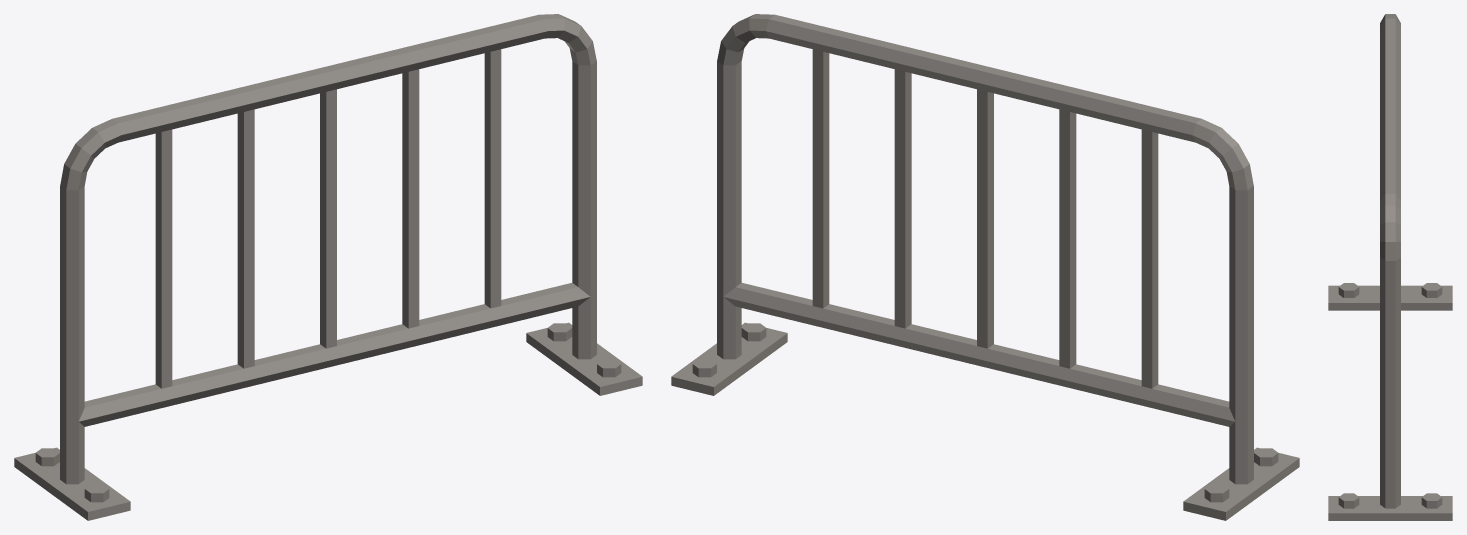
File: SafetyBarrier.fbx
3 renders of one model, left to right at view 1: azimuth 30°, elevation 25°; view 2: azimuth 150°, elevation 25°; view 3: azimuth 270°, elevation 25°, orthographic. The views are drawn at different scales.
Parts seen in each view (by area): view 1: SafetyBarrier; view 2: SafetyBarrier; view 3: SafetyBarrier.
Boxes of the visible parts, x1,y1,x2,y2 form: SafetyBarrier: [14, 14, 642, 520]; SafetyBarrier: [671, 14, 1299, 520]; SafetyBarrier: [1328, 14, 1452, 520].
Size of the model in its own units: 1.95 by 1.2 by 0.45.
